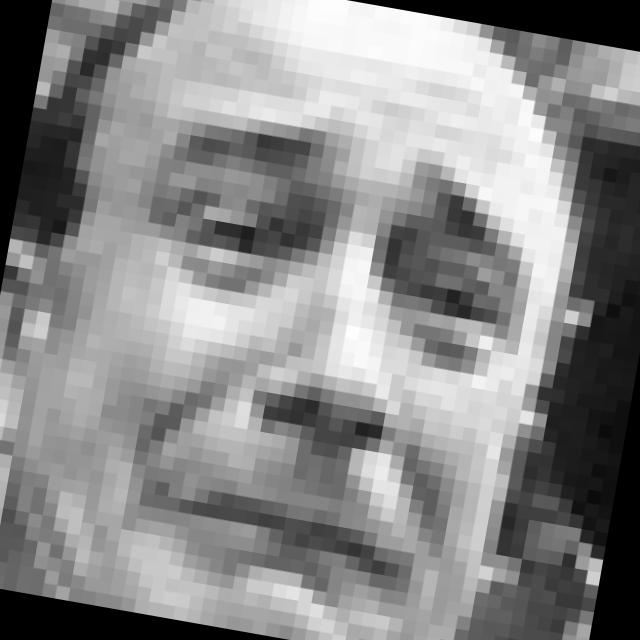sad: (54, 63, 564, 640)
